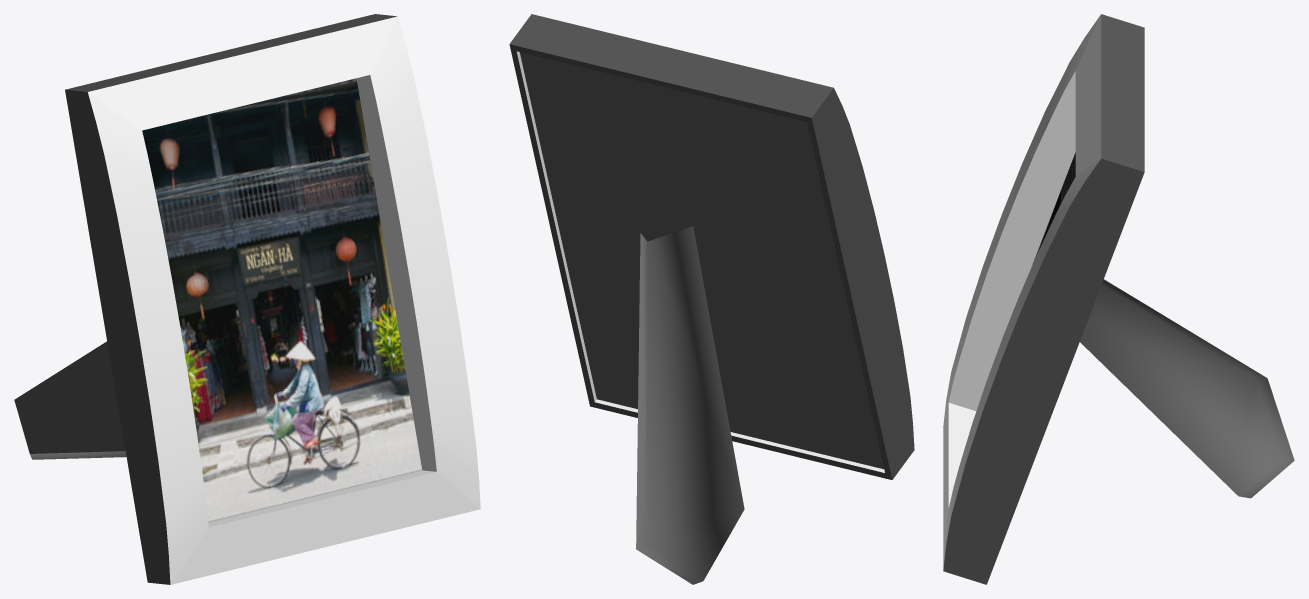
Rendered from sweethome3d-scopia-frame-h-i-an-113.glb.
The picture shows the model from 3 angles, left to right: view 1: azimuth 30°, elevation 25°; view 2: azimuth 150°, elevation 25°; view 3: azimuth 270°, elevation 25°; orthographic projection. The views are drawn at different scales.
Parts seen in each view (by area): view 1: frame2_Cube.002; view 2: frame2_Cube.002; view 3: frame2_Cube.002.
Part boxes in pixels (<box>): frame2_Cube.002: <box>14,14,480,584</box>; frame2_Cube.002: <box>509,14,914,584</box>; frame2_Cube.002: <box>943,14,1294,584</box>.
Bounding box in the file's own units: 2.37 × 3.26 × 2.43.
Materials: 4 (1 with a texture image).
